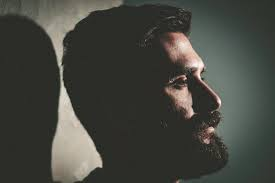middle_eastern_male: (139, 19, 227, 157)
